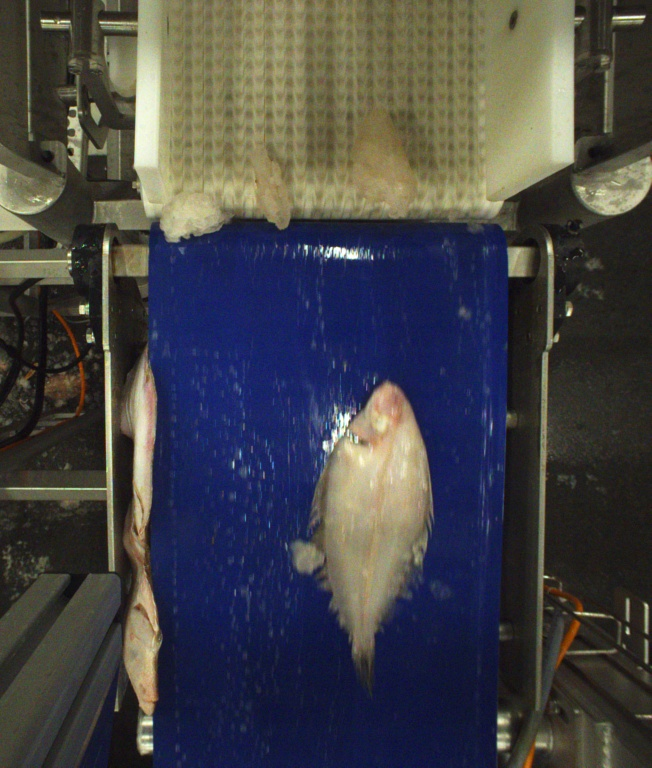WIT: (317, 379, 435, 682)
